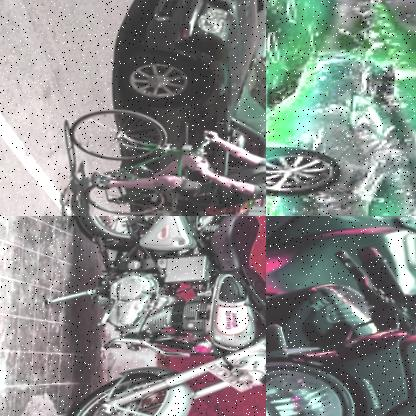bike: (58, 216, 266, 416), (266, 216, 416, 416)
car: (114, 0, 266, 216), (266, 42, 416, 216), (251, 0, 266, 58)
